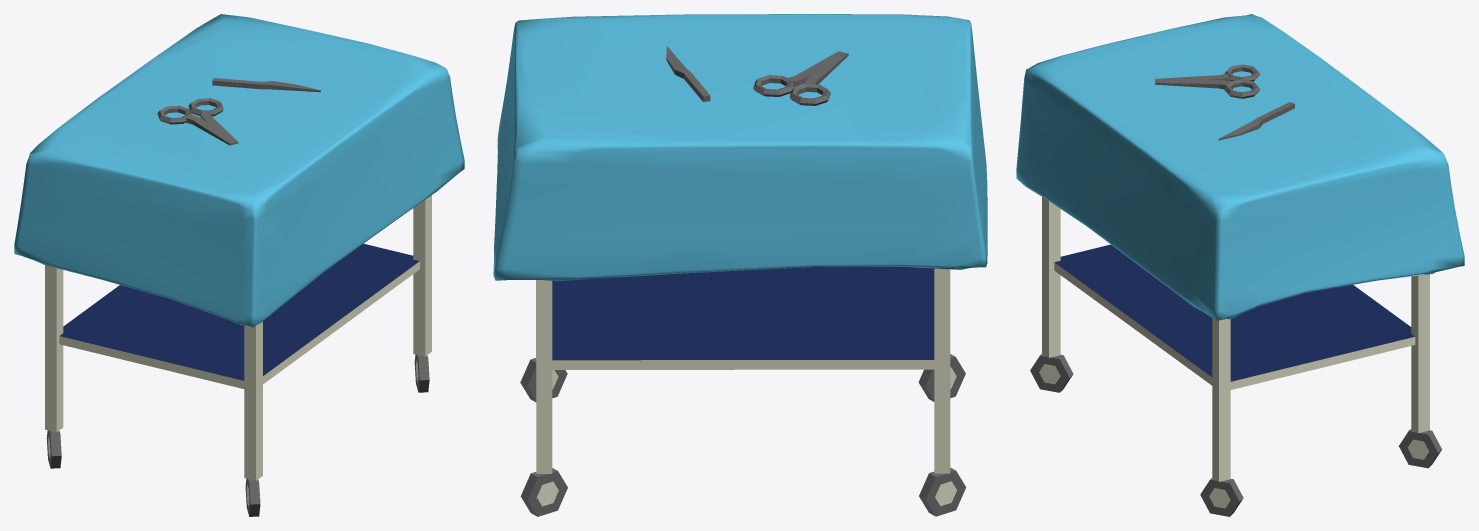
File: instrument01-table-hospital.fbx
The picture shows the model from 3 angles, left to right: view 1: azimuth 30°, elevation 25°; view 2: azimuth 150°, elevation 25°; view 3: azimuth 270°, elevation 25°; orthographic projection. The views are drawn at different scales.
Parts seen in each view (by area): view 1: instrument01-table-hospital; view 2: instrument01-table-hospital; view 3: instrument01-table-hospital.
Part boxes in pixels (x1,y1,x2,y2): instrument01-table-hospital: [14, 14, 464, 516]; instrument01-table-hospital: [493, 14, 987, 516]; instrument01-table-hospital: [1016, 14, 1464, 516].
Size of the model in its own units: 201 by 145 by 181.
